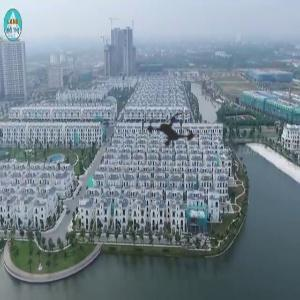drone: (123, 84, 220, 181)
